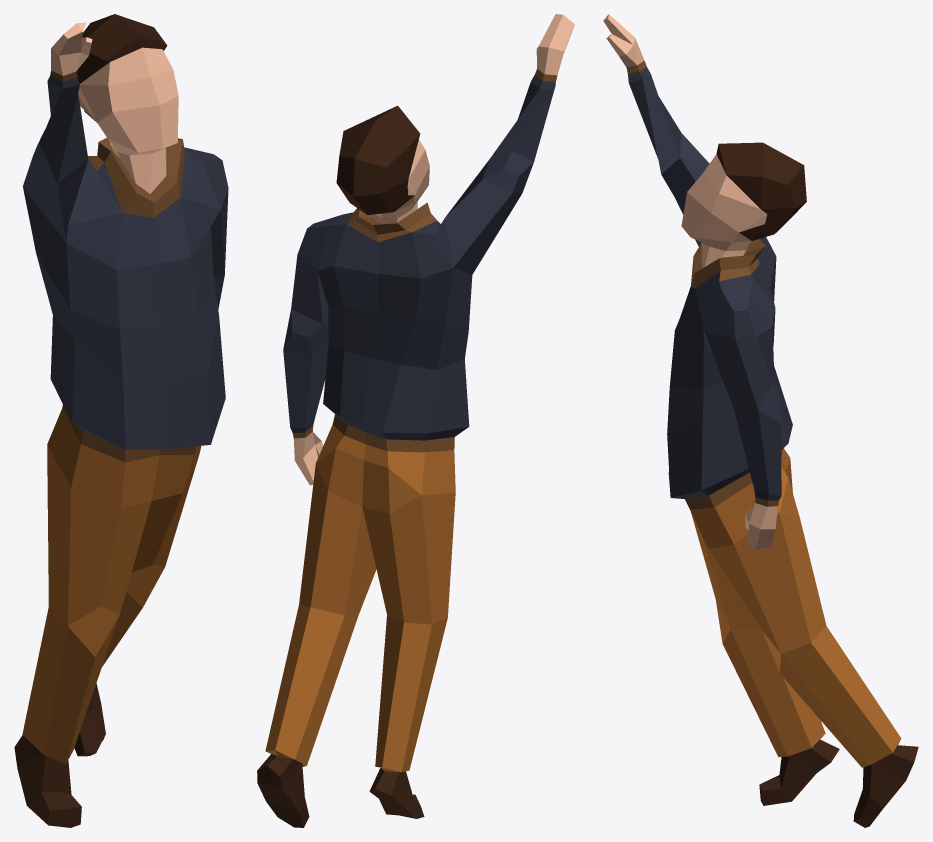
File: AutumnBoy.004.glb
The picture shows the model from 3 angles, left to right: view 1: azimuth 30°, elevation 25°; view 2: azimuth 150°, elevation 25°; view 3: azimuth 270°, elevation 25°; orthographic projection. The views are drawn at different scales.
Parts seen in each view (by area): view 1: AutumnBoy.004; view 2: AutumnBoy.004; view 3: AutumnBoy.004.
Part boxes in pixels (x1,y1,x2,y2): AutumnBoy.004: (14, 14, 228, 827); AutumnBoy.004: (257, 14, 574, 827); AutumnBoy.004: (603, 14, 918, 827).
Bounding box in the file's own units: 0.5031 × 1.74 × 0.66.
1 material, 1 textured.
